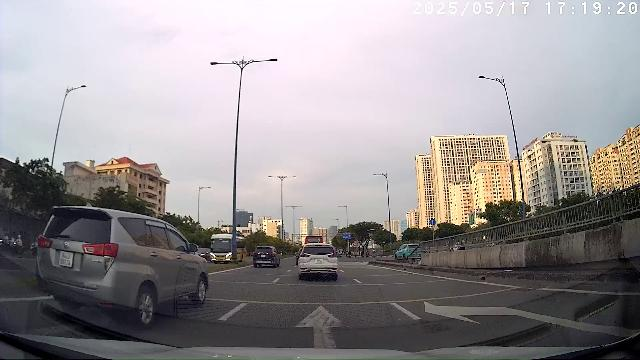301a-cac-xe-chi-duoc-di-thang: (430, 219, 436, 225)
